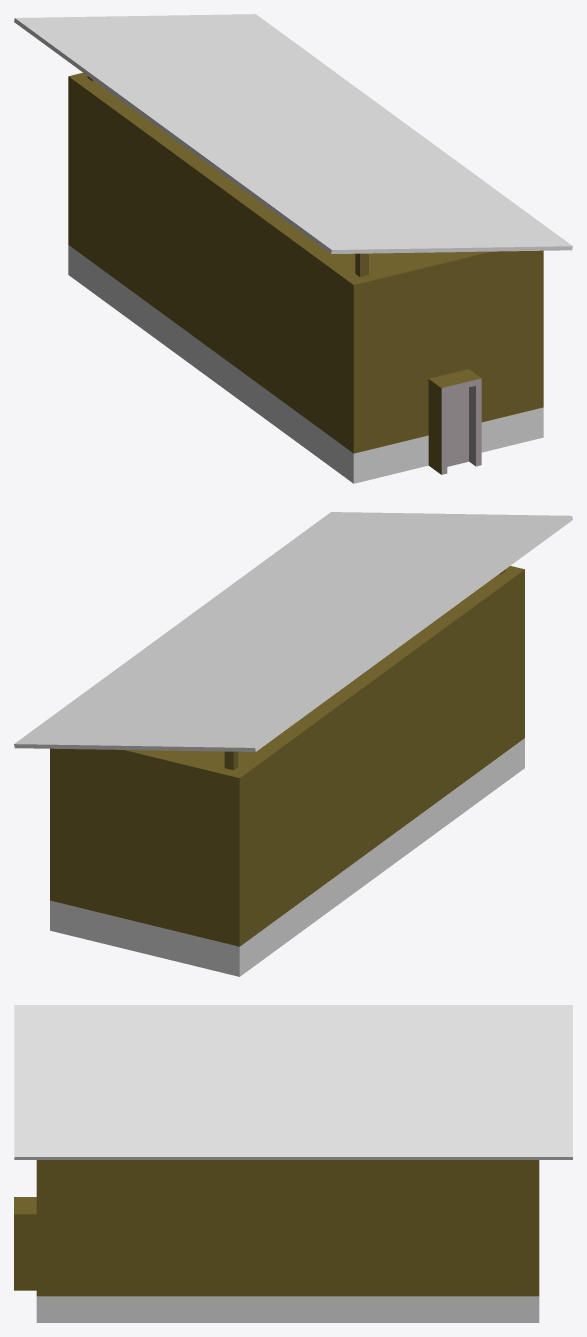
Rendered from House2.fbx.
3 renders of one model, top to bottom at view 1: azimuth 30°, elevation 25°; view 2: azimuth 150°, elevation 25°; view 3: azimuth 270°, elevation 25°, orthographic. The views are drawn at different scales.
Visible parts, largest first — view 1: Body.001, Roof; view 2: Body.001, Roof; view 3: Roof, Body.001.
Boxes of the visible parts, bbox=[...] form: Body.001: bbox=[68, 73, 543, 483]; Roof: bbox=[14, 14, 572, 253]; Body.001: bbox=[50, 566, 524, 976]; Roof: bbox=[14, 512, 572, 751]; Roof: bbox=[14, 1005, 572, 1159]; Body.001: bbox=[14, 1160, 539, 1322].
Size of the model in its own units: 175 by 174 by 398.
